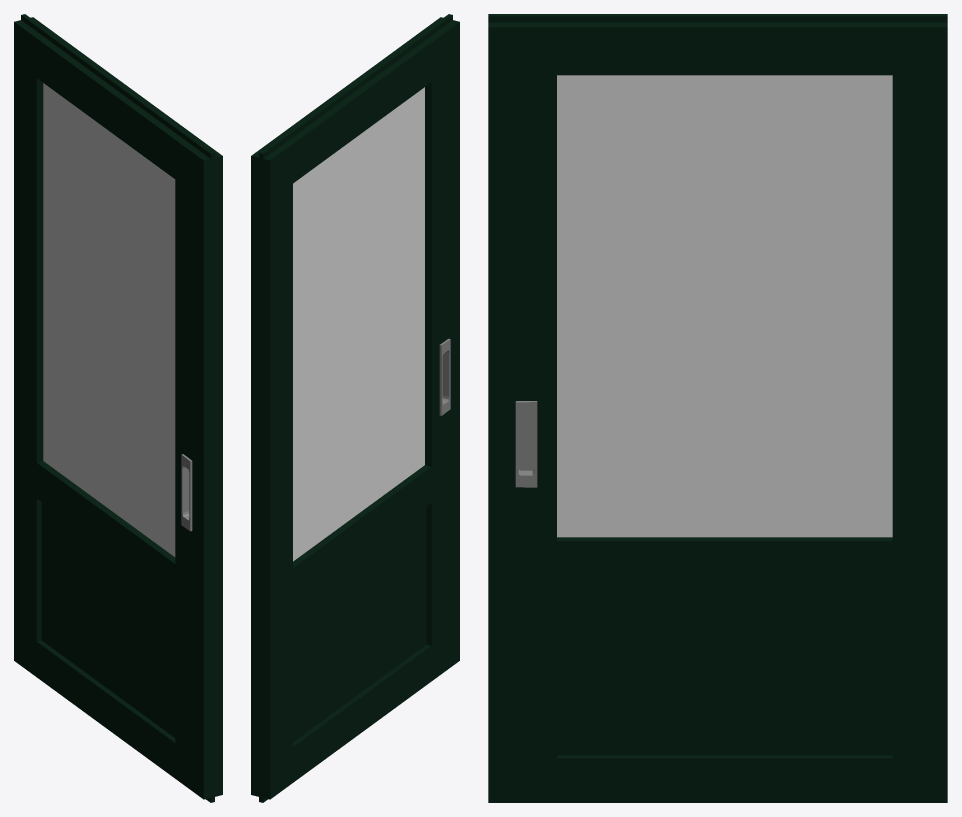
File: living_room_door_r.fbx
The picture shows the model from 3 angles, left to right: view 1: azimuth 30°, elevation 25°; view 2: azimuth 150°, elevation 25°; view 3: azimuth 270°, elevation 25°; orthographic projection. The views are drawn at different scales.
Visible parts, largest first — view 1: door_l; view 2: door_l; view 3: door_l.
Part boxes in pixels (x1,y1,x2,y2): door_l: (14, 14, 222, 802); door_l: (251, 14, 459, 802); door_l: (488, 14, 947, 802).
Bounding box in the file's own units: 7.27 × 194 × 103.
